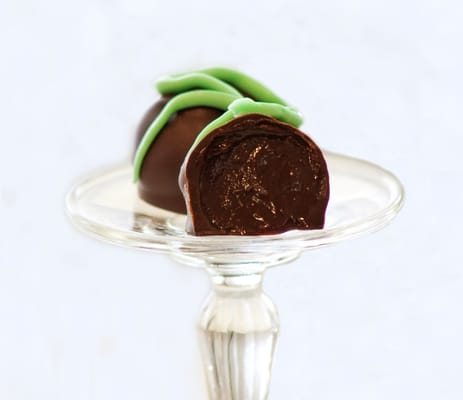pasta: (132, 68, 305, 216)
